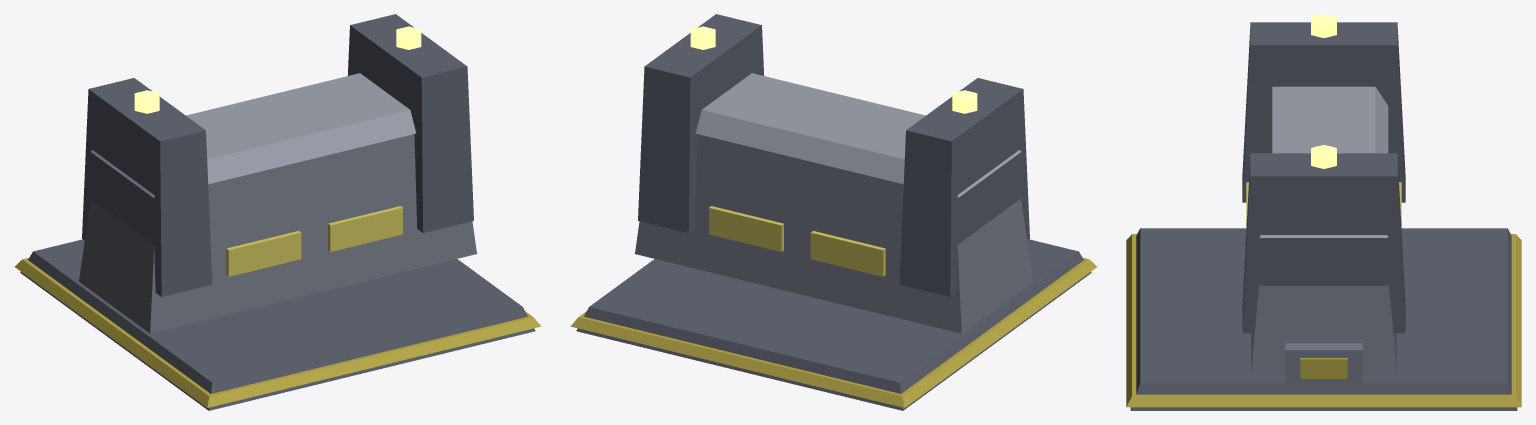
The model's file is wall.glb.
The picture shows the model from 3 angles, left to right: view 1: azimuth 30°, elevation 25°; view 2: azimuth 150°, elevation 25°; view 3: azimuth 270°, elevation 25°; orthographic projection. The views are drawn at different scales.
Visible parts, largest first — view 1: Body, GlowLight; view 2: Body, GlowLight; view 3: Body, GlowLight.
Boxes of the visible parts, left/top/right/bottom form: Body: left=14, top=14, right=541, bottom=410; GlowLight: left=134, top=26, right=421, bottom=113; Body: left=570, top=14, right=1097, bottom=410; GlowLight: left=690, top=26, right=977, bottom=113; Body: left=1126, top=22, right=1521, bottom=410; GlowLight: left=1311, top=14, right=1336, bottom=168.
Size of the model in its own units: 0.948 by 0.64 by 0.92.
